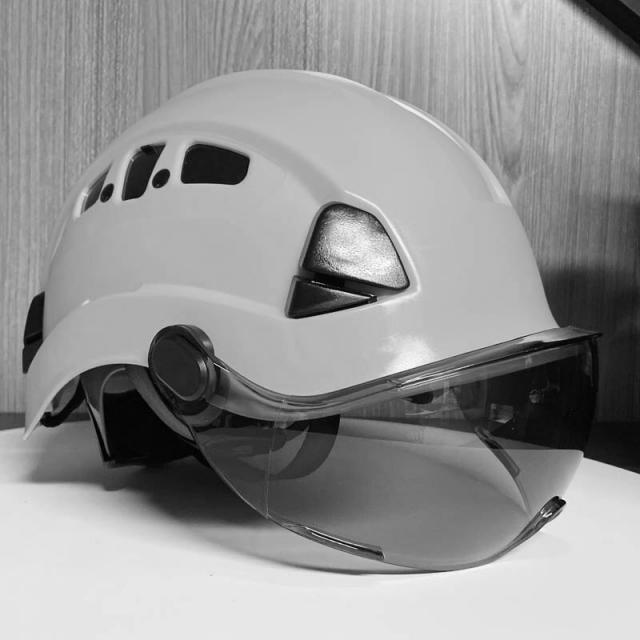safety_helmet: (24, 70, 600, 576)
